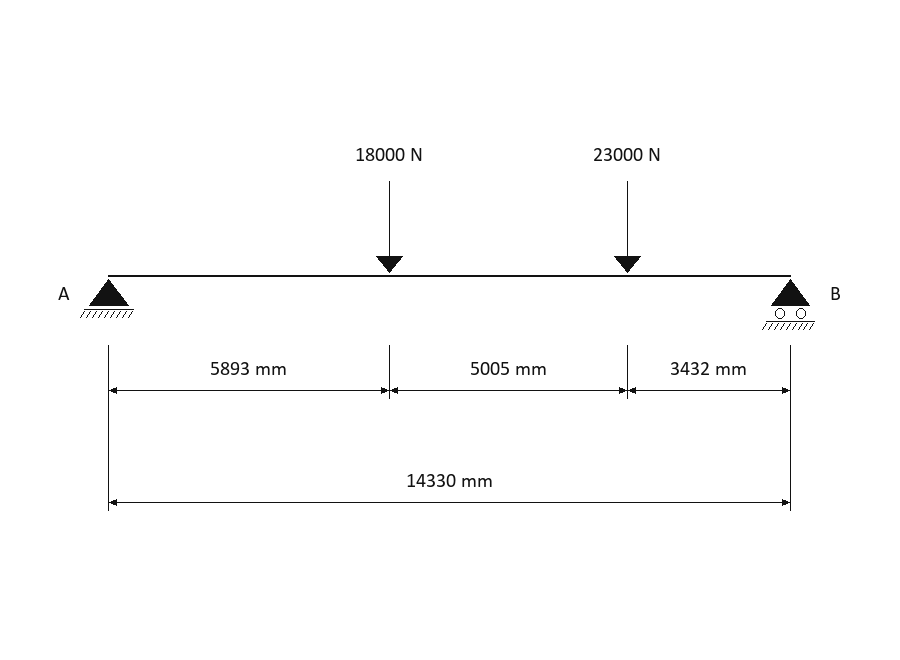pin_support: (80, 279, 134, 318)
point_load: (376, 181, 403, 273), (614, 181, 641, 273)
roller_support: (762, 279, 815, 330)
